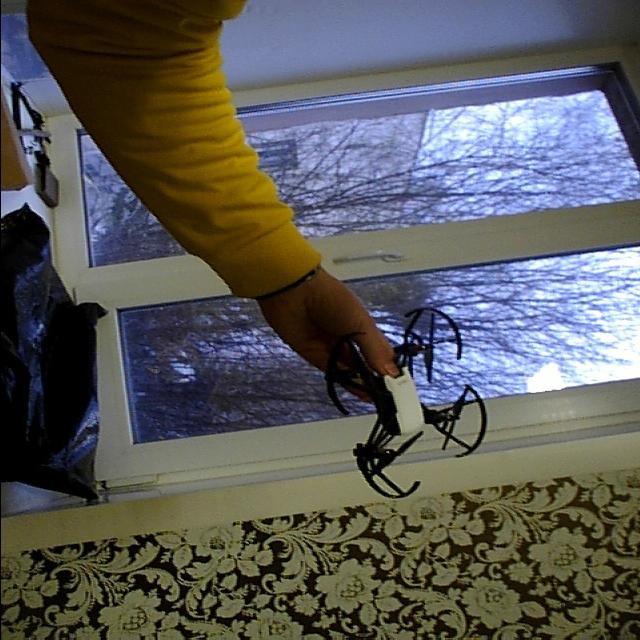drone: (308, 309, 490, 510)
